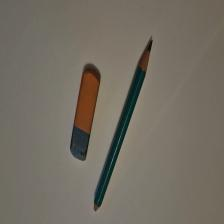eraser: (71, 70, 102, 163)
pencil: (95, 41, 154, 213)
